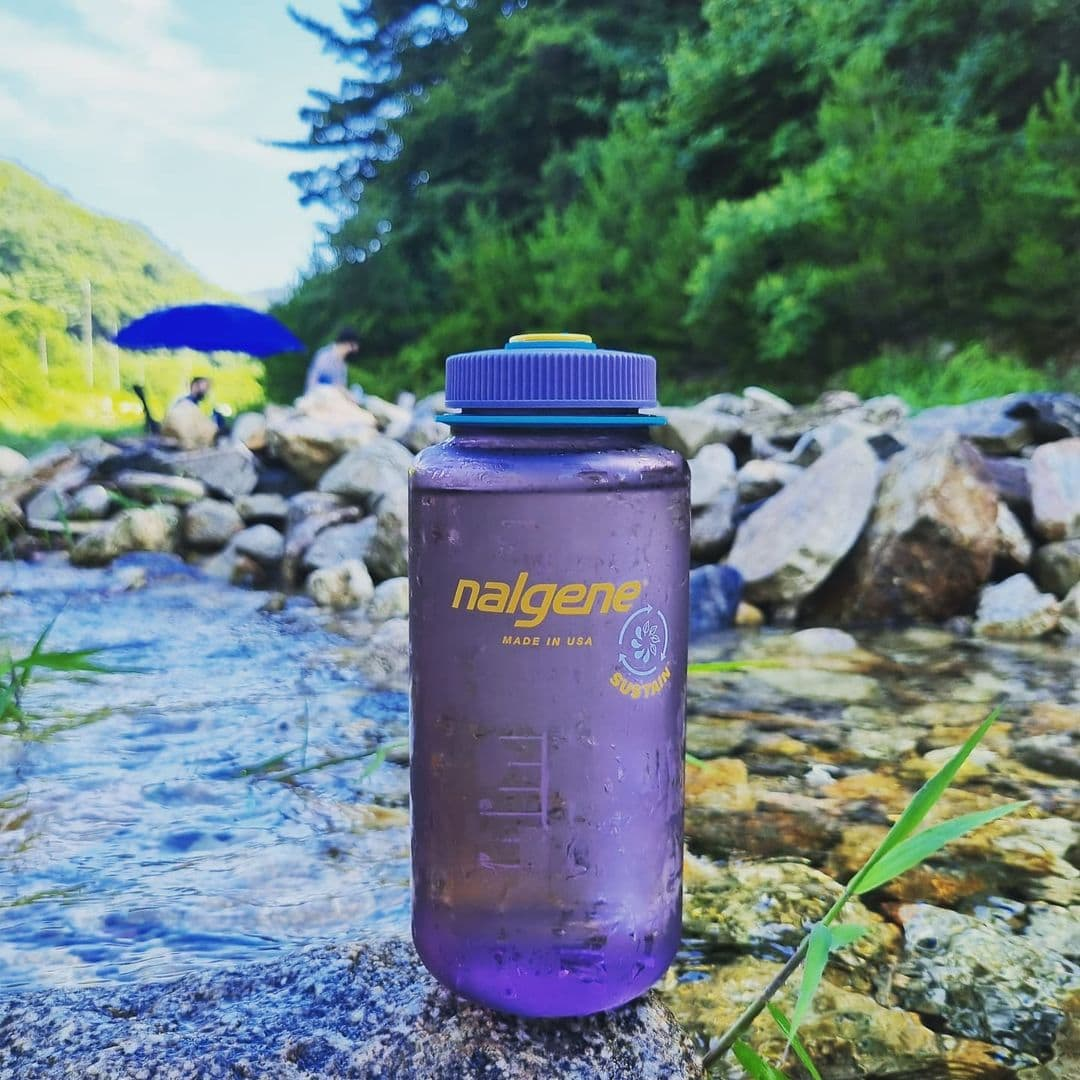bottle: (406, 331, 695, 1019)
